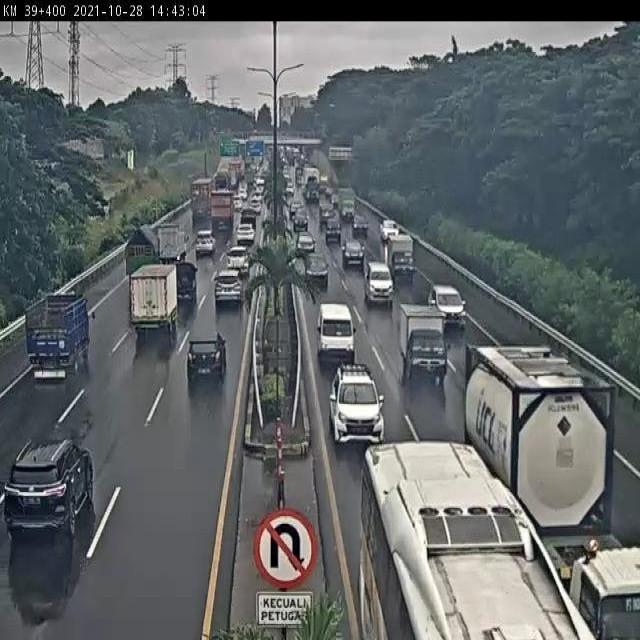big truck: (210, 189, 234, 232)
car: (5, 436, 93, 539), (330, 364, 384, 449), (319, 303, 355, 368), (186, 333, 228, 388), (429, 284, 467, 333), (365, 260, 396, 307), (214, 268, 243, 307), (307, 256, 332, 289), (344, 242, 367, 274), (228, 248, 253, 275), (194, 230, 216, 258), (296, 235, 318, 262), (326, 217, 344, 247), (379, 220, 398, 245), (235, 221, 255, 244), (353, 212, 369, 239), (295, 210, 310, 230)
small truck: (25, 295, 96, 385), (129, 264, 182, 344), (399, 304, 447, 384), (124, 224, 156, 288), (388, 233, 418, 287), (158, 222, 187, 262), (172, 260, 199, 301)
